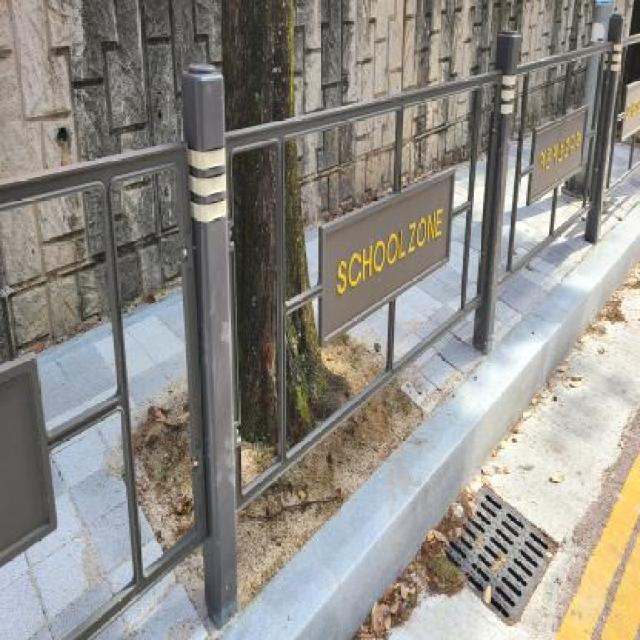fence: (128, 29, 506, 612), (460, 3, 640, 292)
